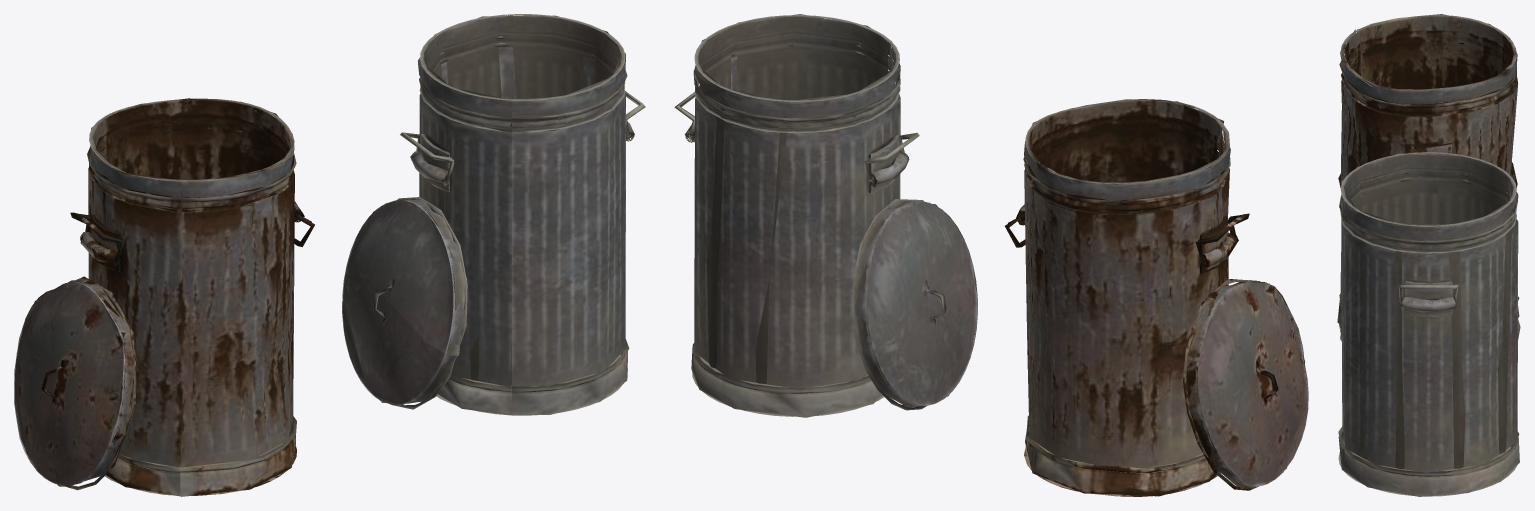
File: ph_metal_trash_can.glb
The picture shows the model from 3 angles, left to right: view 1: azimuth 30°, elevation 25°; view 2: azimuth 150°, elevation 25°; view 3: azimuth 270°, elevation 25°; orthographic projection. The views are drawn at different scales.
Visible parts, largest first — view 1: metal_trash_can_handle_left; view 2: metal_trash_can_handle_left; view 3: metal_trash_can_handle_left.
Part boxes in pixels (left/top/right/bottom): metal_trash_can_handle_left: left=14, top=14, right=645, bottom=496; metal_trash_can_handle_left: left=674, top=14, right=1308, bottom=496; metal_trash_can_handle_left: left=1337, top=14, right=1520, bottom=496.
Bounding box in the file's own units: 1.78 × 0.9063 × 0.5592.
Materials: 3 (3 with a texture image).
